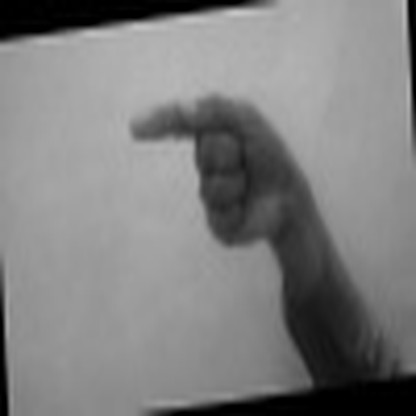g: (109, 70, 318, 252)
